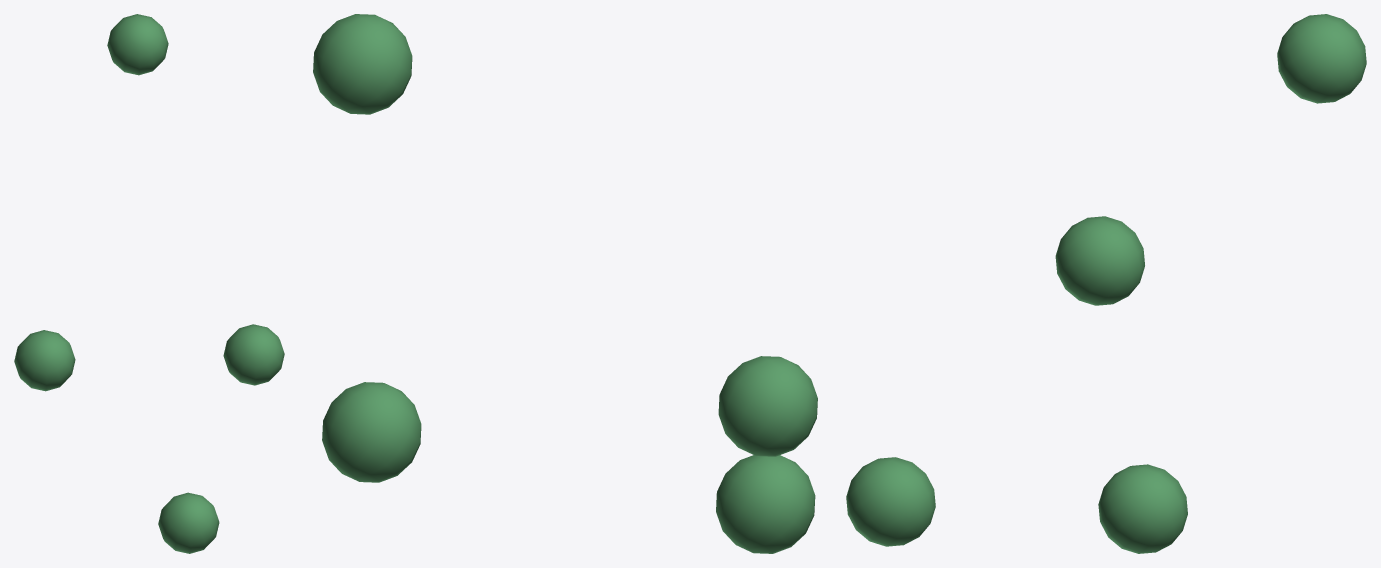
3 renders of one model, left to right at view 1: azimuth 30°, elevation 25°; view 2: azimuth 150°, elevation 25°; view 3: azimuth 270°, elevation 25°, orthographic. The views are drawn at different scales.
Visible parts, largest first — view 1: 左侧臀下淋巴结; view 2: 左侧臀下淋巴结; view 3: 左侧臀下淋巴结.
Part boxes in pixels (<box>): 左侧臀下淋巴结: <box>14,14,284,553</box>; 左侧臀下淋巴结: <box>313,14,817,553</box>; 左侧臀下淋巴结: <box>846,14,1366,553</box>.
Size of the model in its own units: 0.0199 by 0.0278 by 0.0221.
